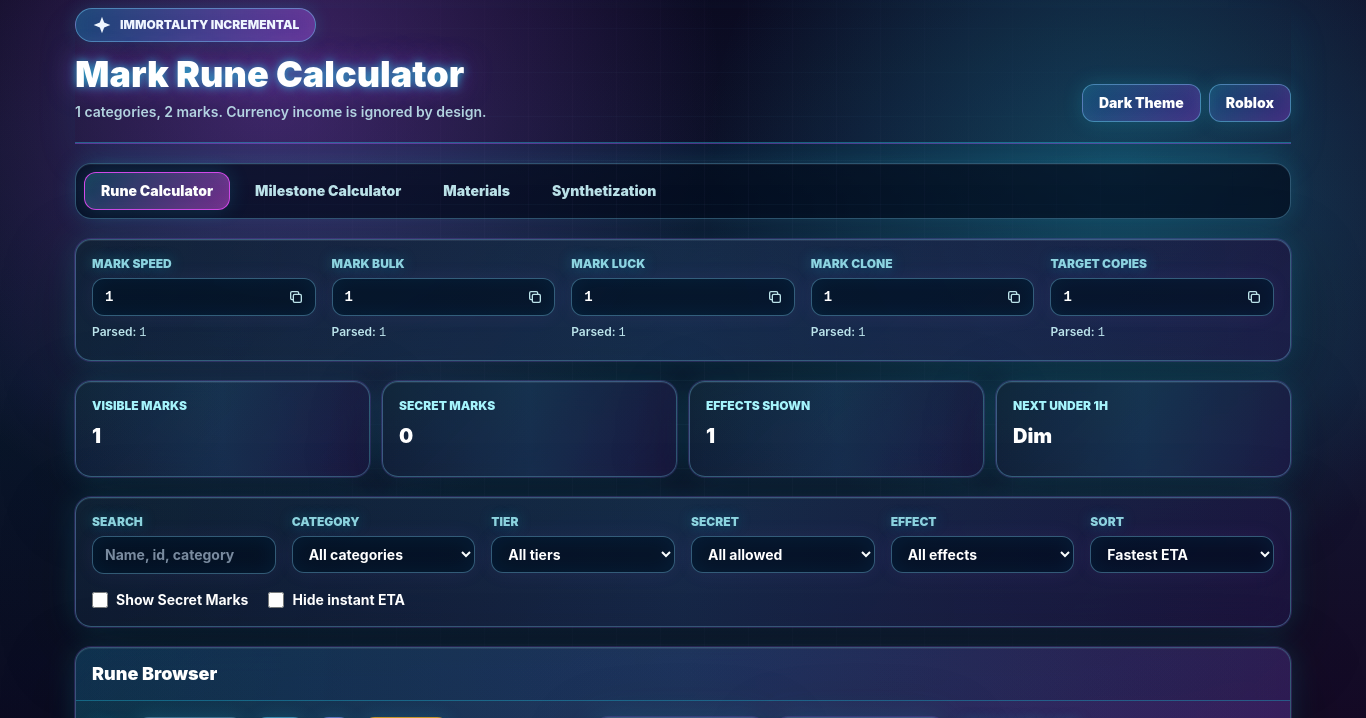
Scenario: RuneCalculatorPanel › treats hidden marks as secret marks behind the Show Secret Marks toggle
The image size is (1366, 718).
Expected: the text "Revenge" is not shown
Step 1. Click the checkbox labelled "Show Secret Marks" → [100, 600], box [92, 592, 108, 608]
(page scrolled)
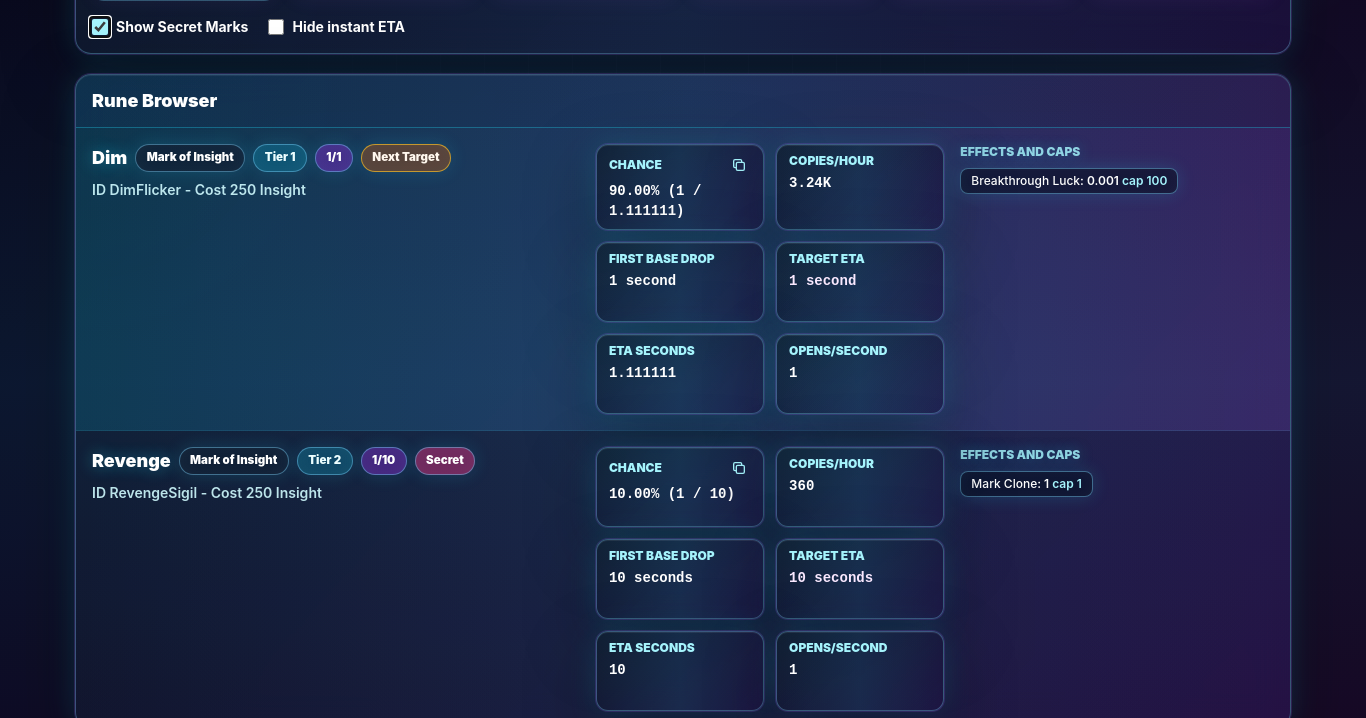
Result: the heading "Revenge" is shown at [92, 447, 171, 475]
